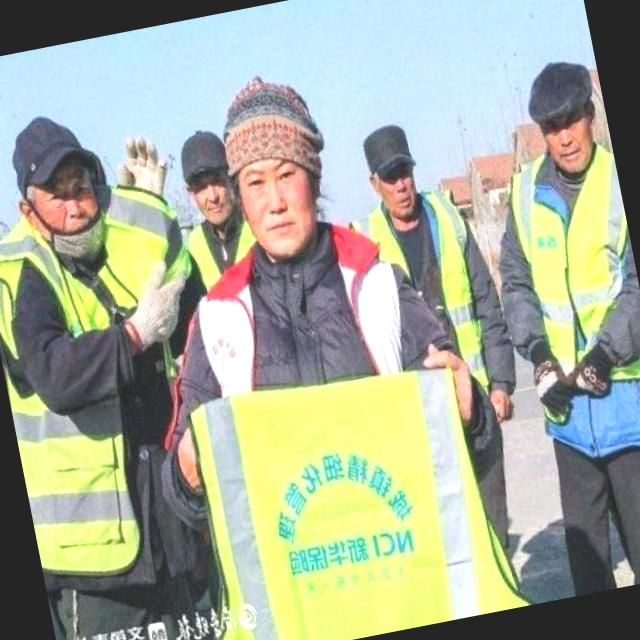vest: (0, 220, 196, 589), (509, 156, 640, 386), (369, 198, 492, 380)
